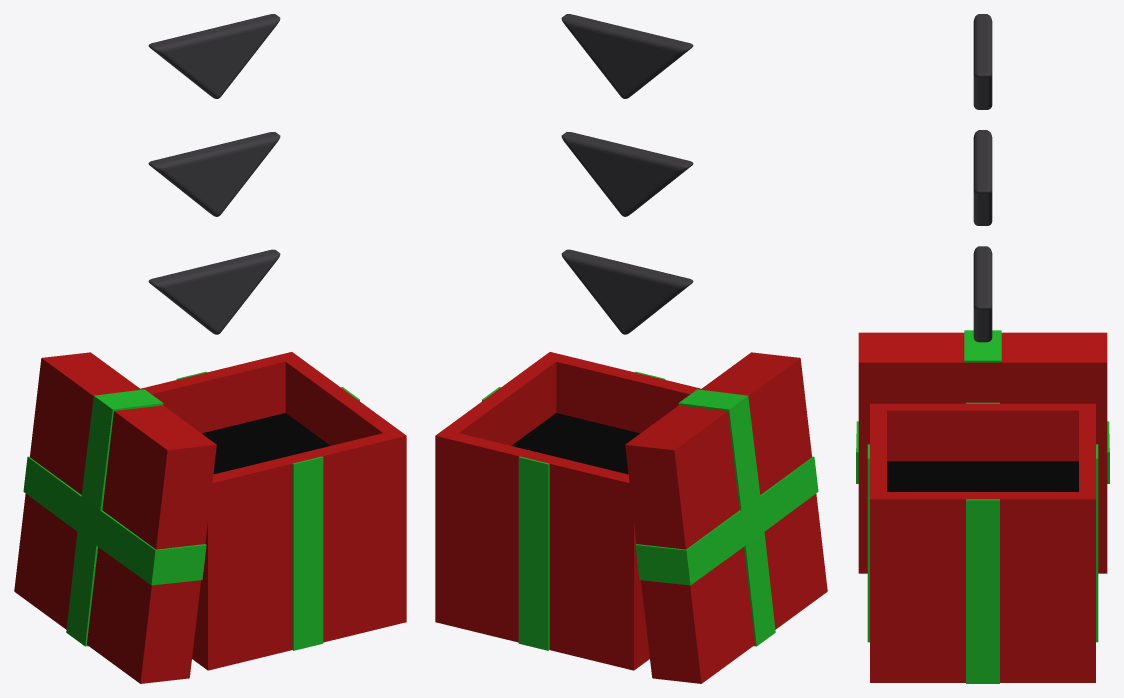
The model's file is DO NOT USE.glb.
The picture shows the model from 3 angles, left to right: view 1: azimuth 30°, elevation 25°; view 2: azimuth 150°, elevation 25°; view 3: azimuth 270°, elevation 25°; orthographic projection.
Visible parts, largest first — view 1: Gift Box, Gift Box Top, Middle Arrow, Bottom Arrow, Top Arrow; view 2: Gift Box, Gift Box Top, Middle Arrow, Bottom Arrow, Top Arrow; view 3: Gift Box, Gift Box Top, Bottom Arrow, Top Arrow, Middle Arrow.
Boxes of the visible parts, box(x1,y1,x2,y2) form: Gift Box: box(140, 352, 406, 670); Gift Box Top: box(14, 352, 216, 683); Middle Arrow: box(148, 132, 280, 216); Bottom Arrow: box(148, 249, 280, 334); Top Arrow: box(148, 14, 280, 98); Gift Box: box(435, 352, 701, 670); Gift Box Top: box(625, 352, 827, 683); Middle Arrow: box(561, 132, 693, 216); Bottom Arrow: box(561, 249, 693, 334); Top Arrow: box(561, 14, 693, 98); Gift Box: box(867, 402, 1098, 683); Gift Box Top: box(856, 330, 1109, 573); Bottom Arrow: box(973, 246, 992, 342); Top Arrow: box(973, 14, 992, 109); Middle Arrow: box(973, 130, 992, 225).
Size of the model in its own units: 2.45 by 4.94 by 1.98.
